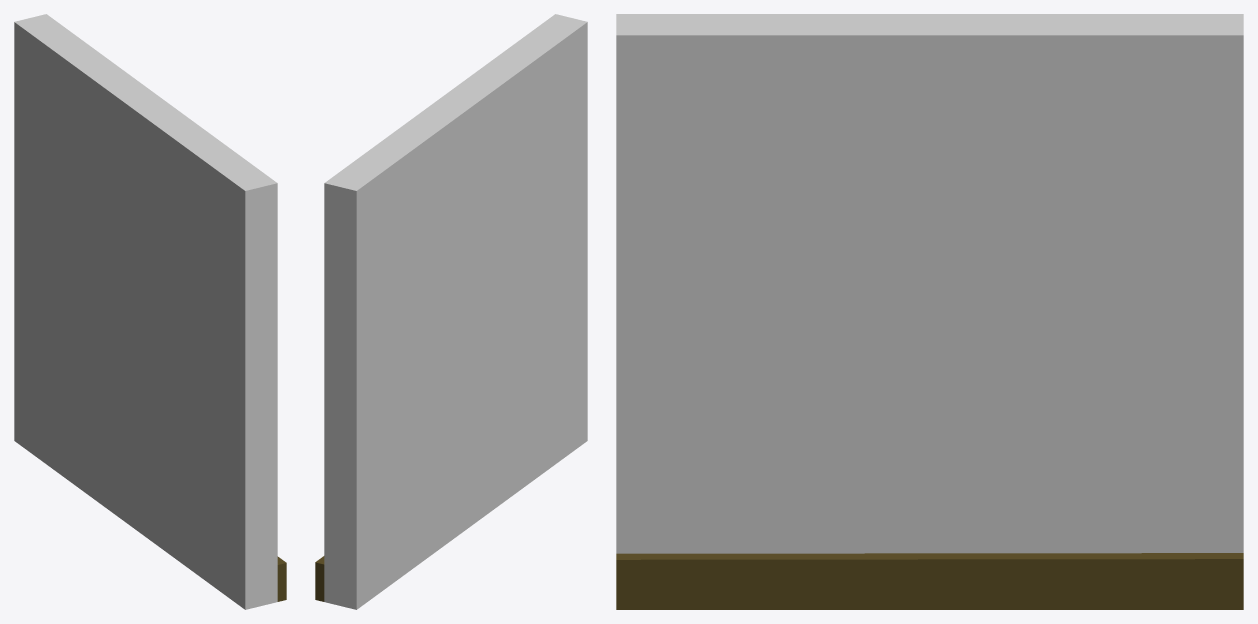
Rendered from Wall with skirting.fbx.
3 renders of one model, left to right at view 1: azimuth 30°, elevation 25°; view 2: azimuth 150°, elevation 25°; view 3: azimuth 270°, elevation 25°, orthographic. The views are drawn at different scales.
Parts seen in each view (by area): view 1: Wall_mesh; view 2: Wall_mesh; view 3: Wall_mesh.
Boxes of the visible parts, x1,y1,x2,y2 form: Wall_mesh: (14,14,286,609); Wall_mesh: (315,14,587,609); Wall_mesh: (616,14,1243,609).
Size of the model in its own units: 0.1037 by 1 by 1.
